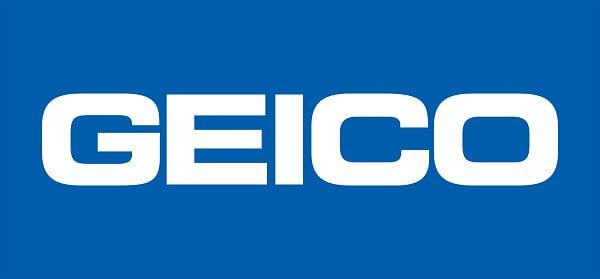Geico: (38, 89, 565, 187)
